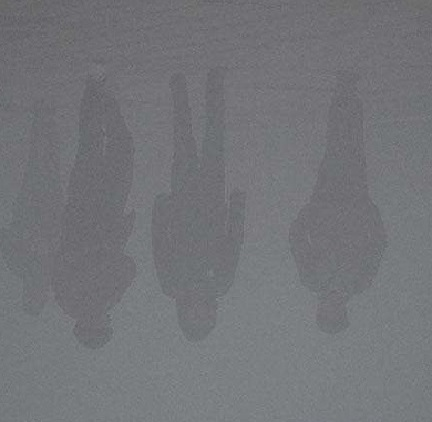person: (150, 66, 247, 346), (49, 69, 140, 352), (288, 73, 384, 335), (4, 102, 59, 319)
